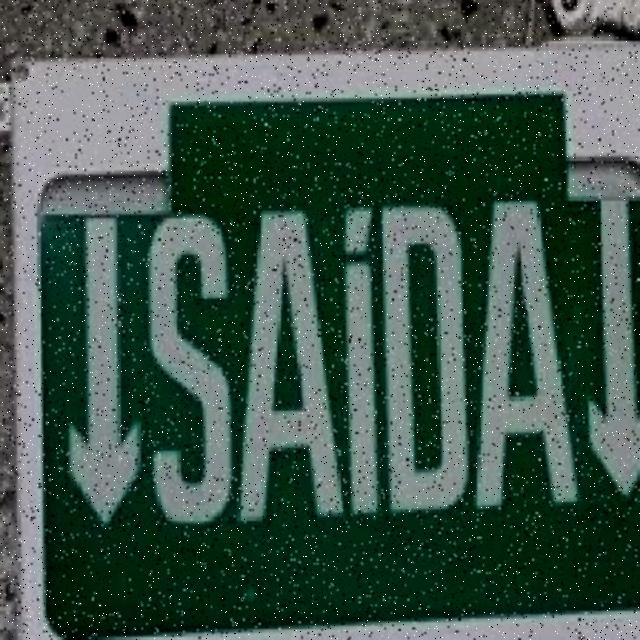emergency_exit: (7, 43, 638, 638)
